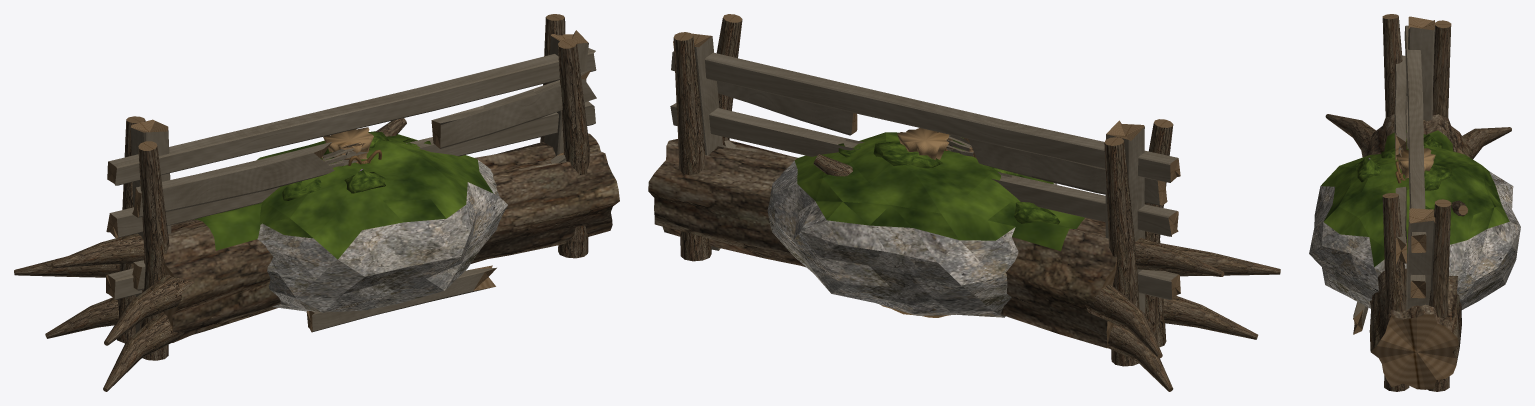
Rendered from meadow_additions_v004.glb.
3 renders of one model, left to right at view 1: azimuth 30°, elevation 25°; view 2: azimuth 150°, elevation 25°; view 3: azimuth 270°, elevation 25°, orthographic. The views are drawn at different scales.
Parts seen in each view (by area): view 1: rock_mossy, fallen_log, fence_splitrail, fence_broken, sack_tied; view 2: rock_mossy, fallen_log, fence_splitrail, fence_broken, sack_tied; view 3: rock_mossy, fence_splitrail, fallen_log, fence_broken, sack_tied.
Boxes of the visible parts, box(x1,y1,x2,y2) form: rock_mossy: box(243, 131, 507, 312); fallen_log: box(14, 118, 619, 391); fence_splitrail: box(106, 14, 596, 360); fence_broken: box(130, 30, 596, 332); sack_tied: box(323, 127, 381, 165); rock_mossy: box(767, 132, 1057, 317); fallen_log: box(648, 139, 1280, 391); fence_splitrail: box(670, 14, 1180, 366); fence_broken: box(673, 33, 1167, 313); sack_tied: box(880, 128, 950, 317); rock_mossy: box(1309, 146, 1520, 309); fence_splitrail: box(1382, 14, 1451, 391); fallen_log: box(1325, 114, 1511, 389); fence_broken: box(1353, 16, 1435, 334); sack_tied: box(1395, 148, 1435, 183).
Bounding box in the file's own units: 2.71 × 1.04 × 1.05.
1 material, 1 textured.
